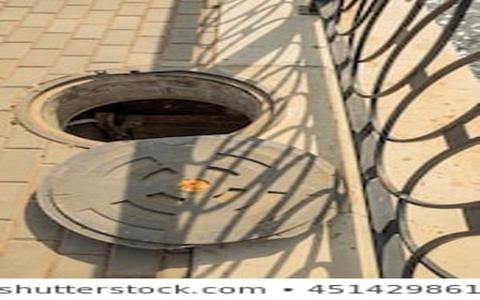open manhole: (27, 63, 286, 151)
